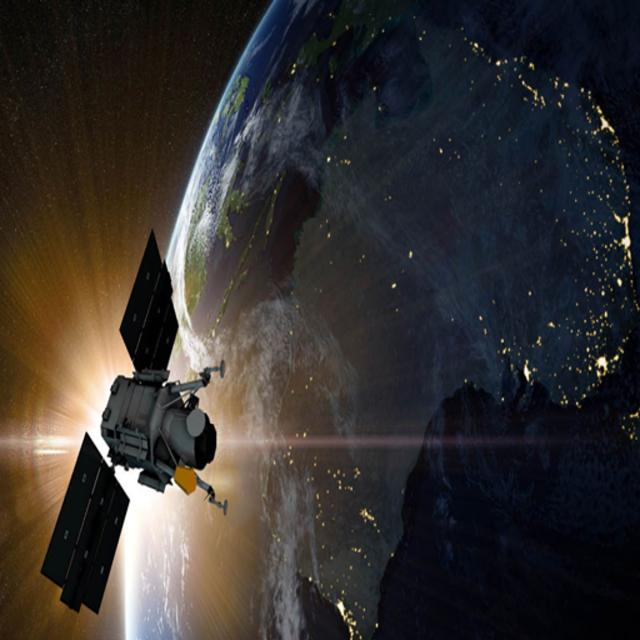satellite: (37, 229, 234, 622)
